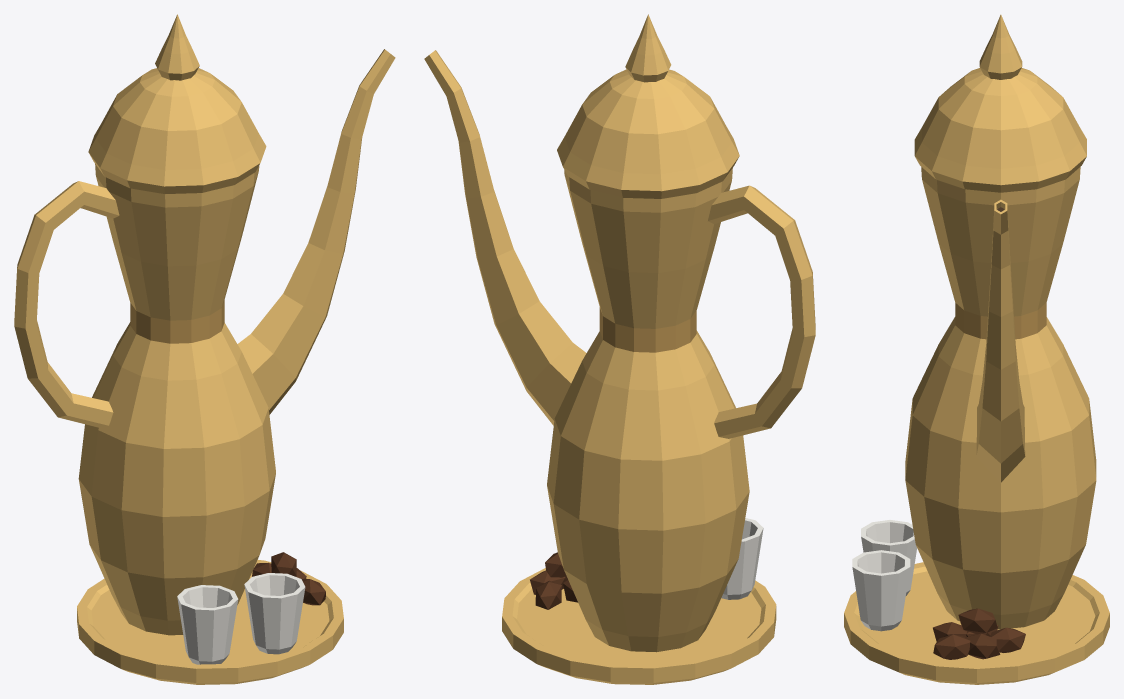
File: dallah.glb
3 views of the same model, side by side, from view 1: azimuth 30°, elevation 25°; view 2: azimuth 150°, elevation 25°; view 3: azimuth 270°, elevation 25° (orthographic). The views are drawn at different scales.
Visible parts, largest first — view 1: dallah; view 2: dallah; view 3: dallah.
Part boxes in pixels (<box>): dallah: <box>14,14,395,684</box>; dallah: <box>424,14,815,684</box>; dallah: <box>844,14,1109,684</box>.
Bounding box in the file's own units: 0.4 × 0.6185 × 0.2445.
